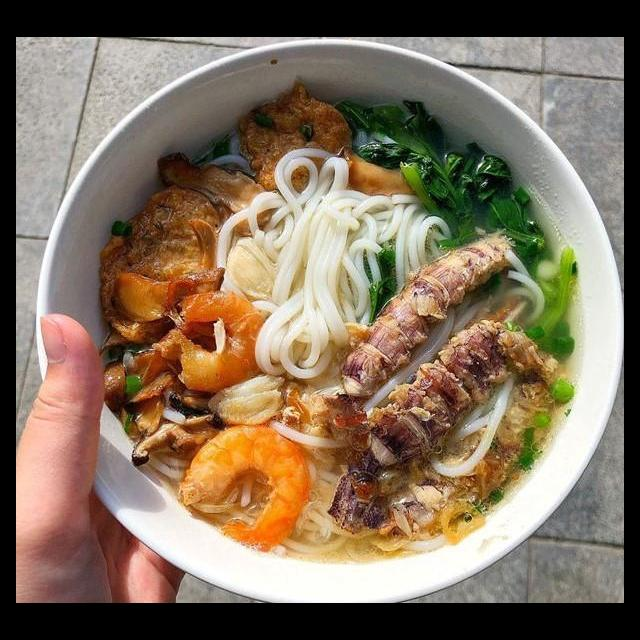bun: (206, 144, 455, 383), (361, 249, 551, 417), (265, 411, 357, 567), (424, 369, 523, 480), (137, 401, 201, 487)
bun hai san: (65, 76, 624, 603)
tom: (171, 418, 315, 557), (169, 287, 274, 397)
tom tit: (323, 317, 546, 539), (336, 226, 524, 408)
